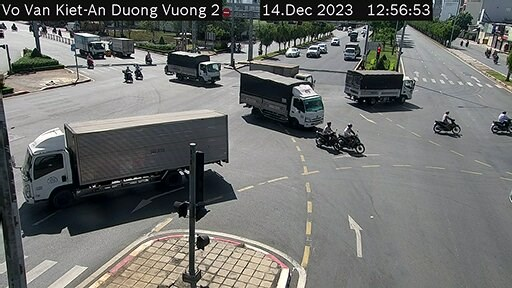motorbike: (313, 121, 343, 153), (334, 123, 363, 153), (433, 112, 460, 135), (491, 109, 512, 133)
truck: (24, 114, 246, 198), (238, 69, 319, 129), (342, 63, 415, 108), (245, 53, 317, 91), (162, 49, 222, 88), (68, 33, 104, 61), (106, 33, 141, 61), (343, 40, 363, 65)
